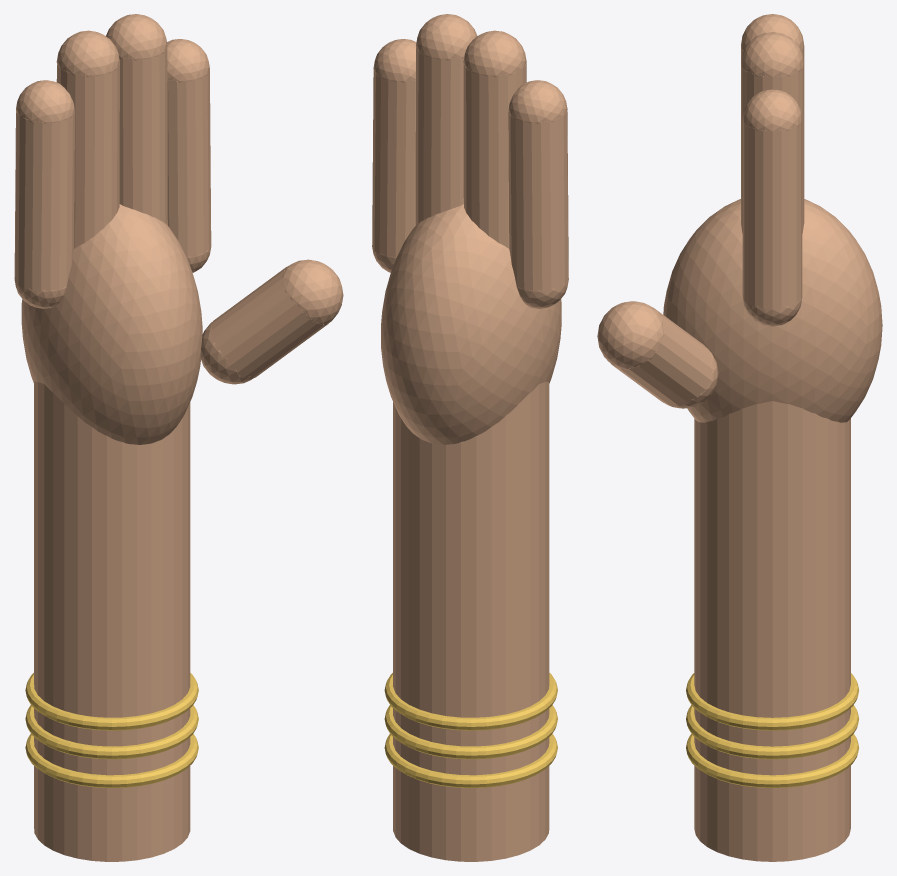
Rendered from sister-hand.glb.
The picture shows the model from 3 angles, left to right: view 1: azimuth 30°, elevation 25°; view 2: azimuth 150°, elevation 25°; view 3: azimuth 270°, elevation 25°; orthographic projection.
Visible parts, largest first — view 1: part_0, part_1, part_2, part_8, part_5, part_11, part_14, part_16, part_19, part_18, part_17, part_7 (+5 smaller); view 2: part_0, part_1, part_2, part_5, part_8, part_11, part_19, part_18, part_17, part_7, part_10, part_4 (+2 smaller); view 3: part_0, part_1, part_11, part_14, part_16, part_19, part_18, part_17, part_10, part_8, part_13, part_7 (+1 smaller).
Boxes of the visible parts, left/top/right/bottom form: part_0: left=34, top=381, right=190, bottom=861; part_1: left=21, top=204, right=202, bottom=444; part_2: left=14, top=111, right=74, bottom=291; part_8: left=119, top=47, right=167, bottom=225; part_5: left=56, top=63, right=119, bottom=248; part_11: left=167, top=69, right=211, bottom=257; part_14: left=210, top=266, right=328, bottom=378; part_16: left=281, top=259, right=343, bottom=325; part_19: left=25, top=673, right=198, bottom=730; part_18: left=25, top=705, right=198, bottom=759; part_17: left=25, top=734, right=198, bottom=788; part_7: left=56, top=30, right=119, bottom=77; part_0: left=393, top=381, right=549, bottom=861; part_1: left=381, top=204, right=561, bottom=444; part_2: left=508, top=110, right=568, bottom=291; part_5: left=463, top=63, right=526, bottom=248; part_8: left=415, top=47, right=463, bottom=225; part_11: left=372, top=70, right=415, bottom=257; part_19: left=384, top=673, right=557, bottom=730; part_18: left=384, top=705, right=557, bottom=759; part_17: left=384, top=734, right=557, bottom=788; part_7: left=463, top=30, right=526, bottom=77; part_10: left=416, top=14, right=477, bottom=60; part_4: left=508, top=80, right=567, bottom=123; part_0: left=694, top=401, right=850, bottom=861; part_1: left=663, top=199, right=882, bottom=422; part_11: left=742, top=119, right=802, bottom=309; part_14: left=612, top=307, right=713, bottom=406; part_16: left=597, top=301, right=663, bottom=369; part_19: left=686, top=673, right=859, bottom=730; part_18: left=686, top=705, right=858, bottom=759; part_17: left=686, top=734, right=858, bottom=788; part_10: left=741, top=32, right=804, bottom=76; part_8: left=741, top=64, right=804, bottom=233; part_13: left=742, top=89, right=802, bottom=131; part_7: left=741, top=14, right=804, bottom=50.
Size of the model in its own units: 1.43 by 4.39 by 1.41.
